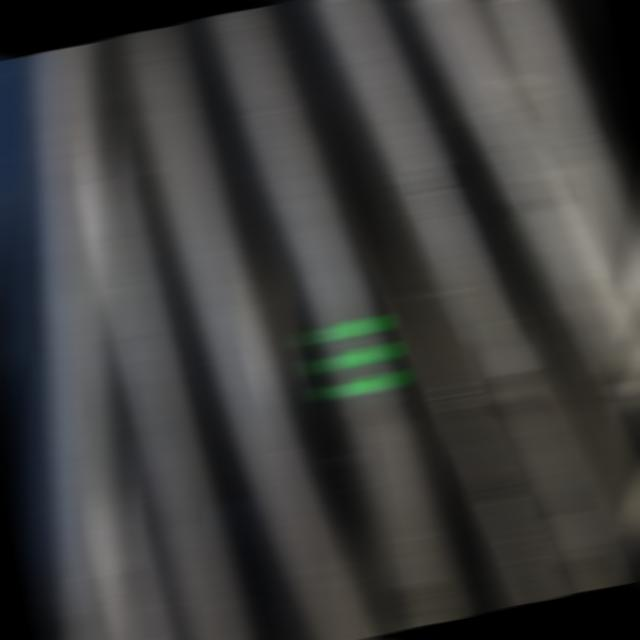green: (286, 314, 404, 407)
